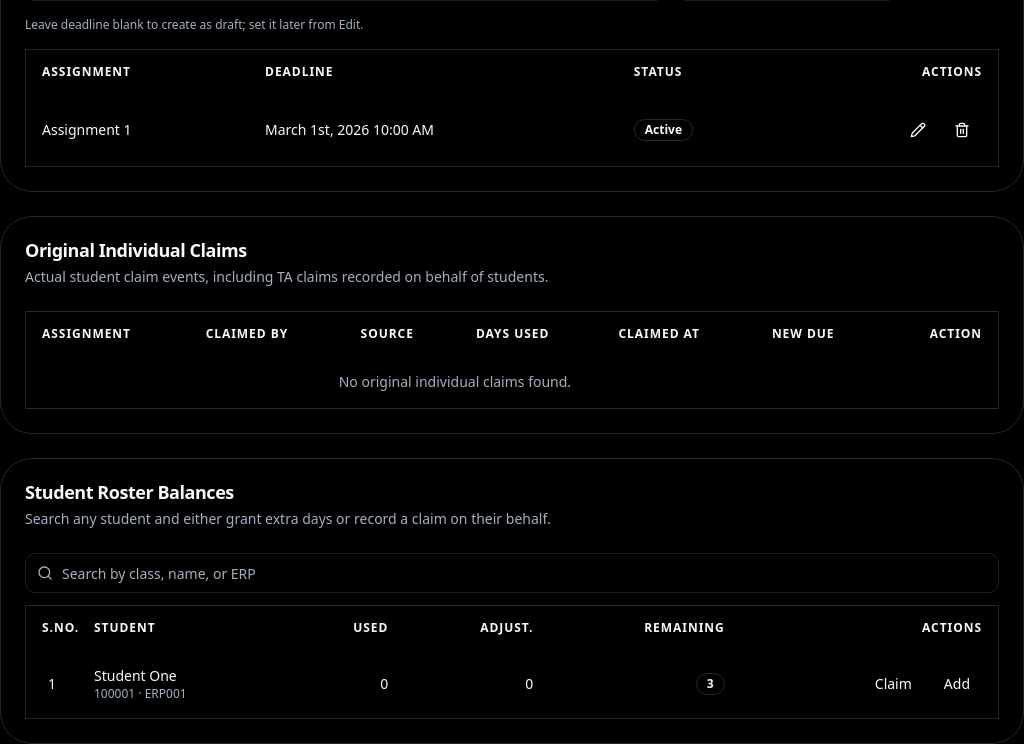
Test: LateDaysManagement › lets TAs open overdue assignments in the claim dialog even when the student flow would block them
(page scrolled)
Expected: the text "Student One" is shown, [94,666,177,685]
Click the button "Claim" at {"x": 893, "y": 684}, box [863,666,924,702]
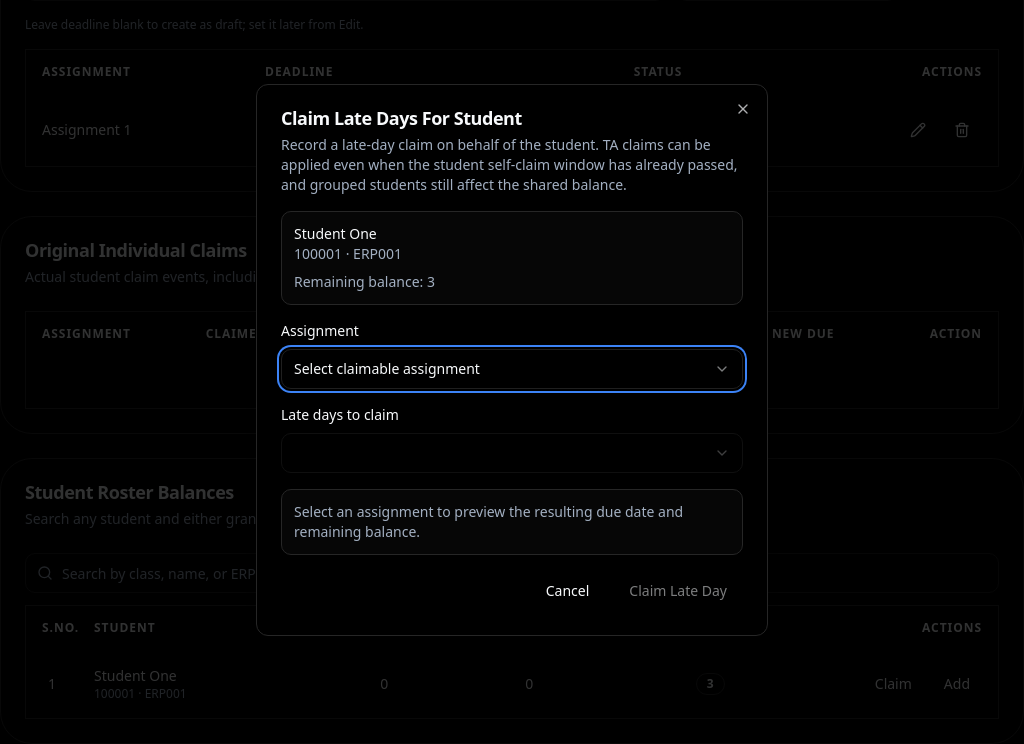
Result: the heading "Claim Late Days For Student" is shown at [281,106,522,130]
Result: the text "Select an assignment to preview the resulting due date" is shown at [294,502,683,541]
